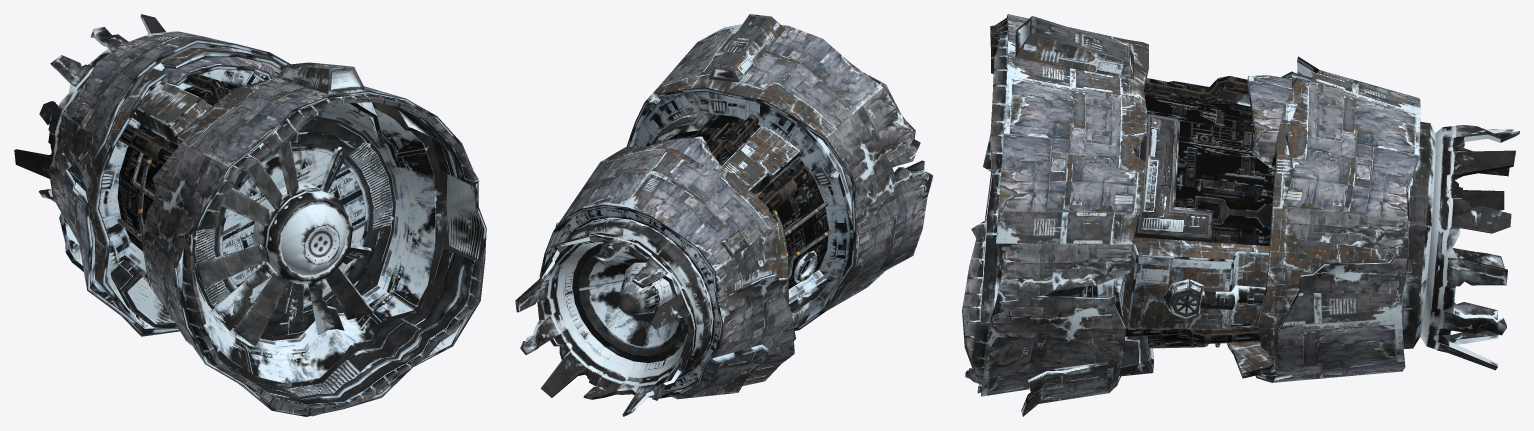
The model's file is hth_item_debris_ship_large_b.glb.
The picture shows the model from 3 angles, left to right: view 1: azimuth 30°, elevation 25°; view 2: azimuth 150°, elevation 25°; view 3: azimuth 270°, elevation 25°; orthographic projection. The views are drawn at different scales.
Visible parts, largest first — view 1: hth_item_debris_ship_large_b; view 2: hth_item_debris_ship_large_b; view 3: hth_item_debris_ship_large_b.
Boxes of the visible parts, <box> form: hth_item_debris_ship_large_b: <box>14,14,486,416</box>; hth_item_debris_ship_large_b: <box>515,14,933,416</box>; hth_item_debris_ship_large_b: <box>962,14,1519,416</box>.
Bounding box in the file's own units: 2.42 × 2.4 × 3.31.
4 materials, 4 textured.
